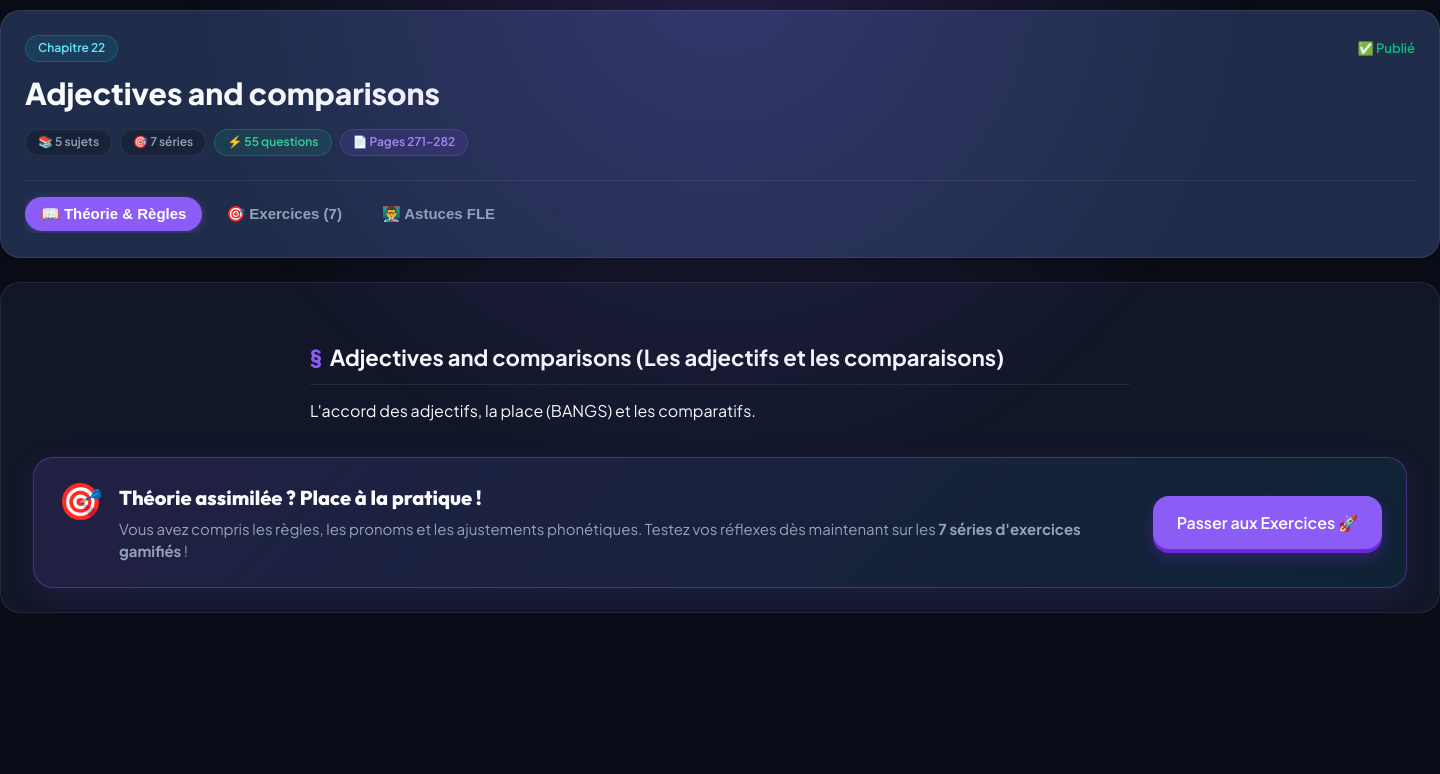
ChapterPage Component › affiche la théorie, les 7 séries d exercices et les astuces FLE pour le chapitre 22 (Adjectives and comparisons)
Expected: the heading "Adjectives and comparisons" is shown, [25,74,440,112]
Expected: the text "L'accord des adjectifs, la place (BANGS) et les comparatifs." is shown, [310,400,756,421]
# Passage à l'onglet Exercices (7)
Click the tab "🎯 Exercices (7)" at coordinates (284, 214), box [210,197,358,231]
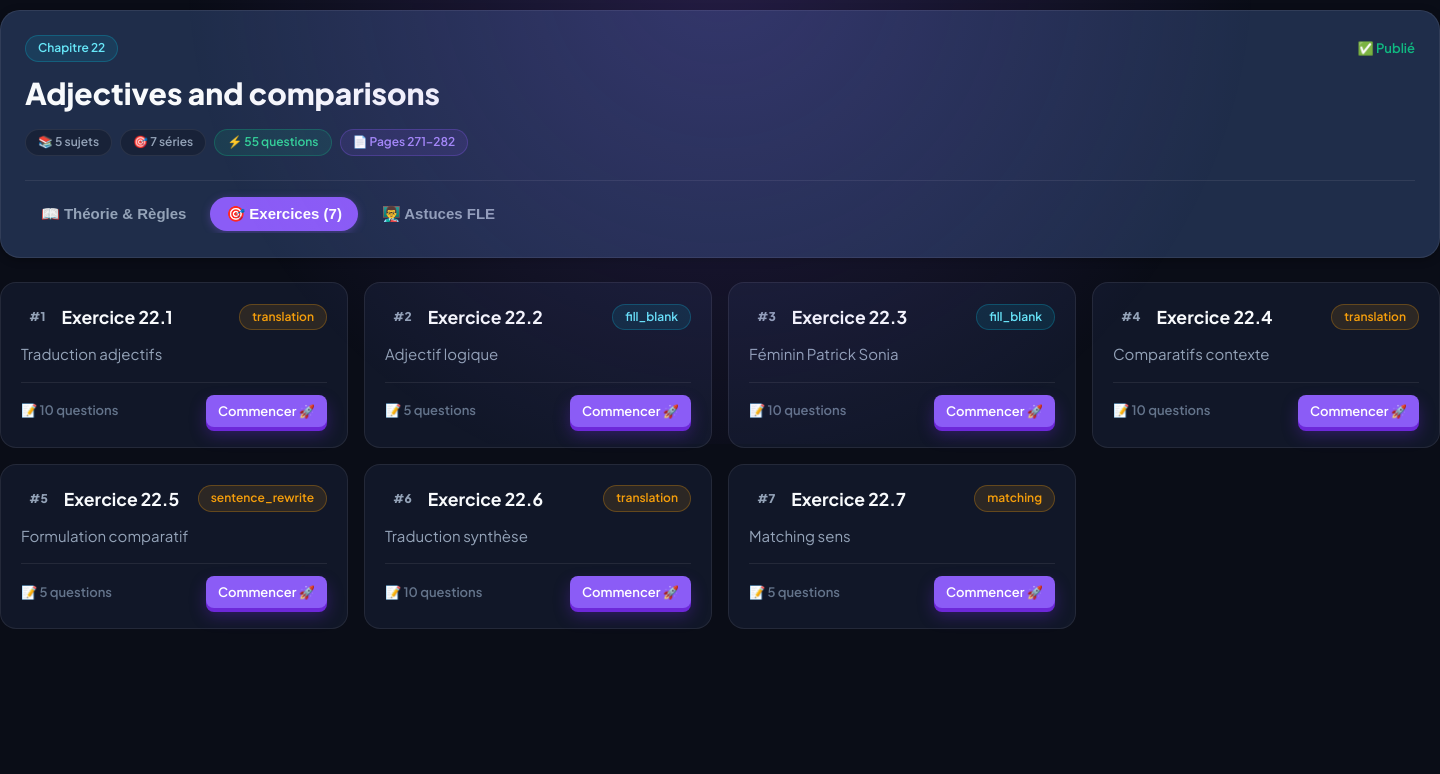
Expected: the heading "Exercice 22.1" is shown, [62,303,173,331]
Expected: the heading "Exercice 22.2" is shown, [428,303,543,331]
Expected: the heading "Exercice 22.7" is shown, [791,485,906,513]
# Passage à l'onglet Astuces FLE
Click the tab "👨‍🏫 Astuces FLE" at coordinates (438, 214), box [366,197,511,231]
(page scrolled)
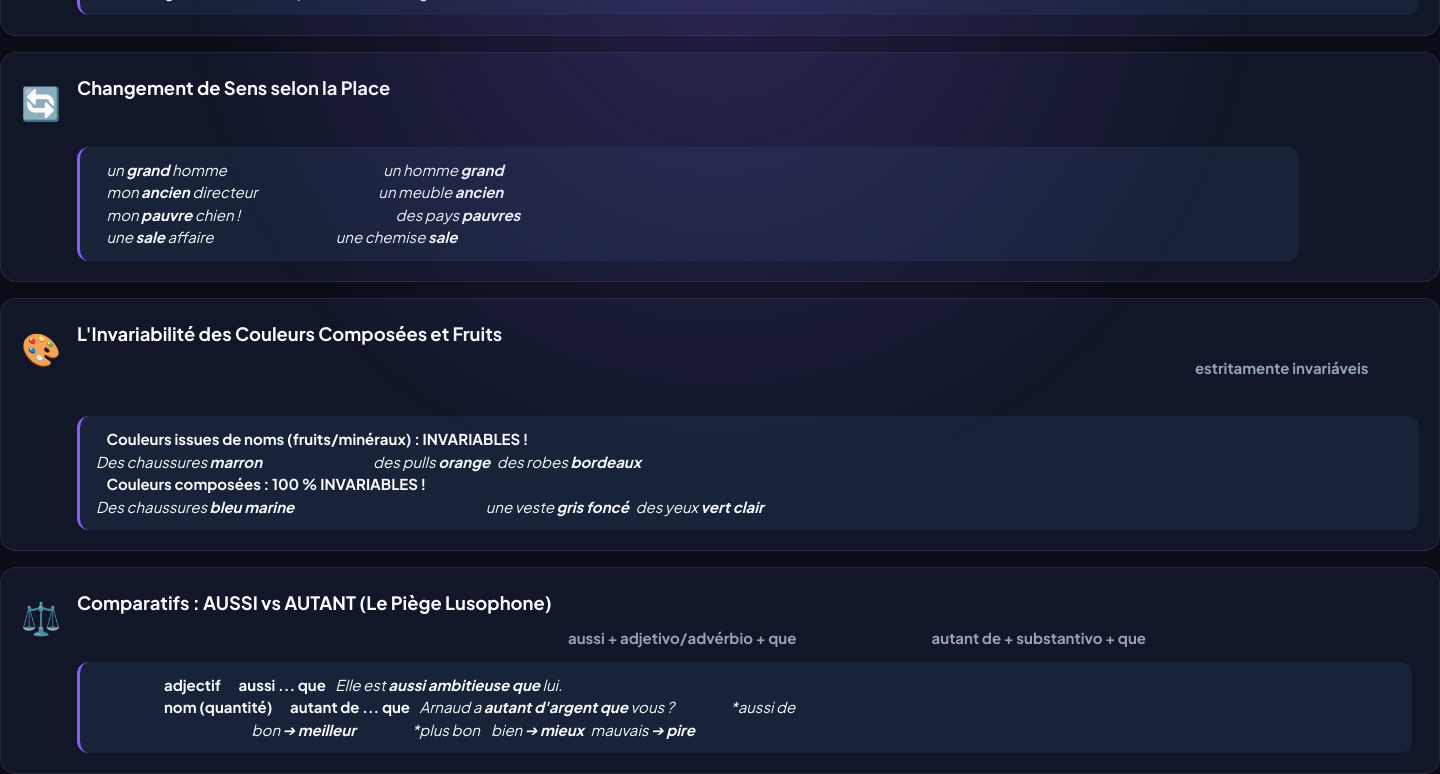
Expected: the heading "Changement de Sens selon la Place" is shown, [77,76,390,99]
Expected: the heading "L'Invariabilité des Couleurs Composées et Fruits" is shown, [77,322,502,345]
Expected: the heading "Comparatifs : AUSSI vs AUTANT (Le Piège Lusophone)" is shown, [77,591,552,614]
